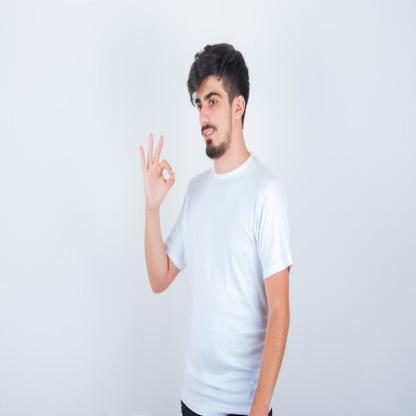ok: (138, 128, 177, 218)
